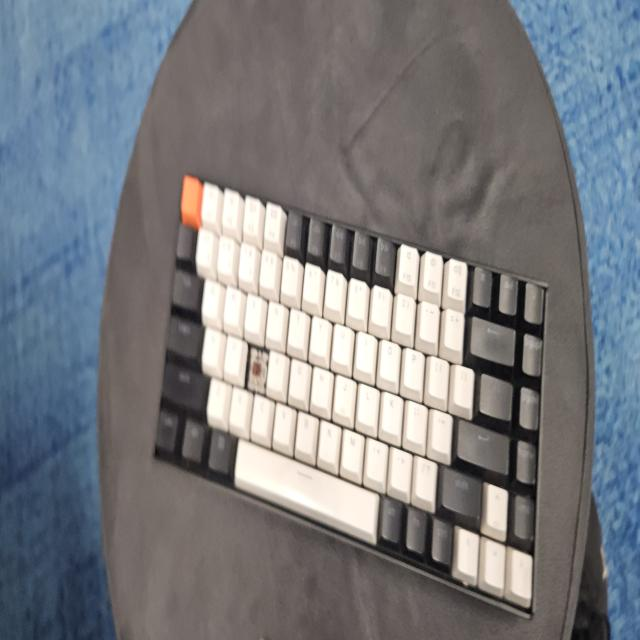C: (249, 354, 268, 394)
